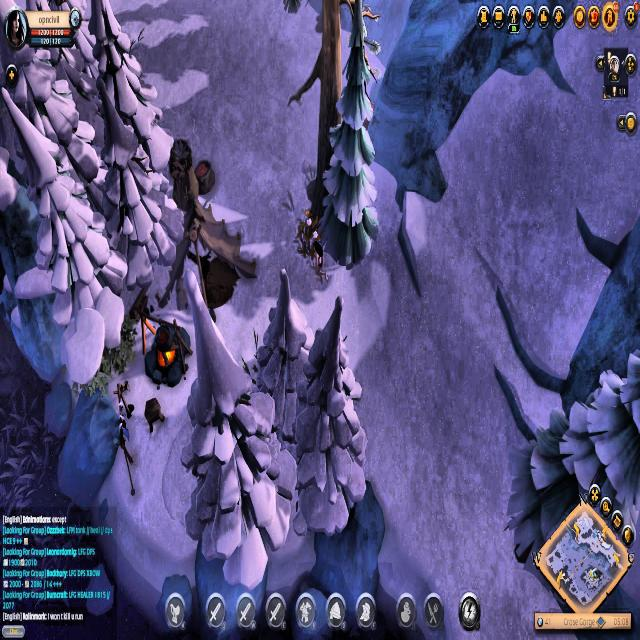cotton: (296, 203, 320, 255)
